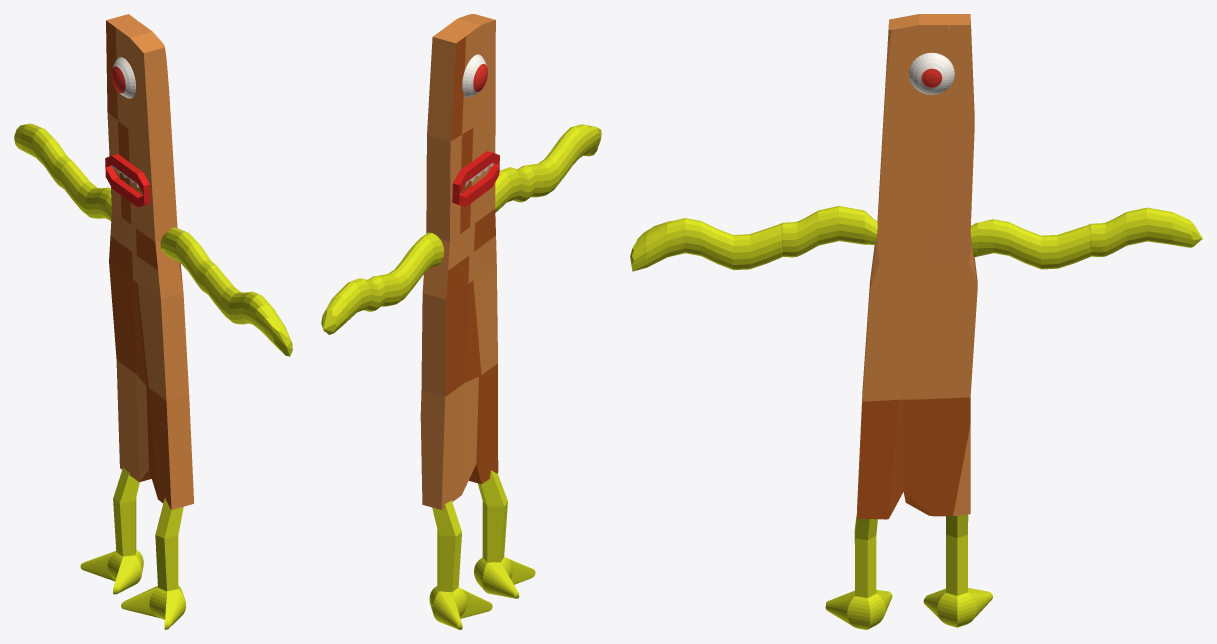
File: Vilao Madeira.fbx
3 views of the same model, side by side, from view 1: azimuth 30°, elevation 25°; view 2: azimuth 150°, elevation 25°; view 3: azimuth 270°, elevation 25° (orthographic). The views are drawn at different scales.
Parts seen in each view (by area): view 1: Planket; view 2: Planket; view 3: Planket.
Part boxes in pixels (<box>): Planket: <box>14,14,292,629</box>; Planket: <box>321,14,601,629</box>; Planket: <box>630,14,1202,629</box>.
Size of the model in its own units: 27.57 by 251 by 214.
